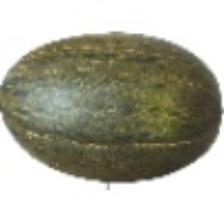honeydew: (26, 17, 209, 173)
